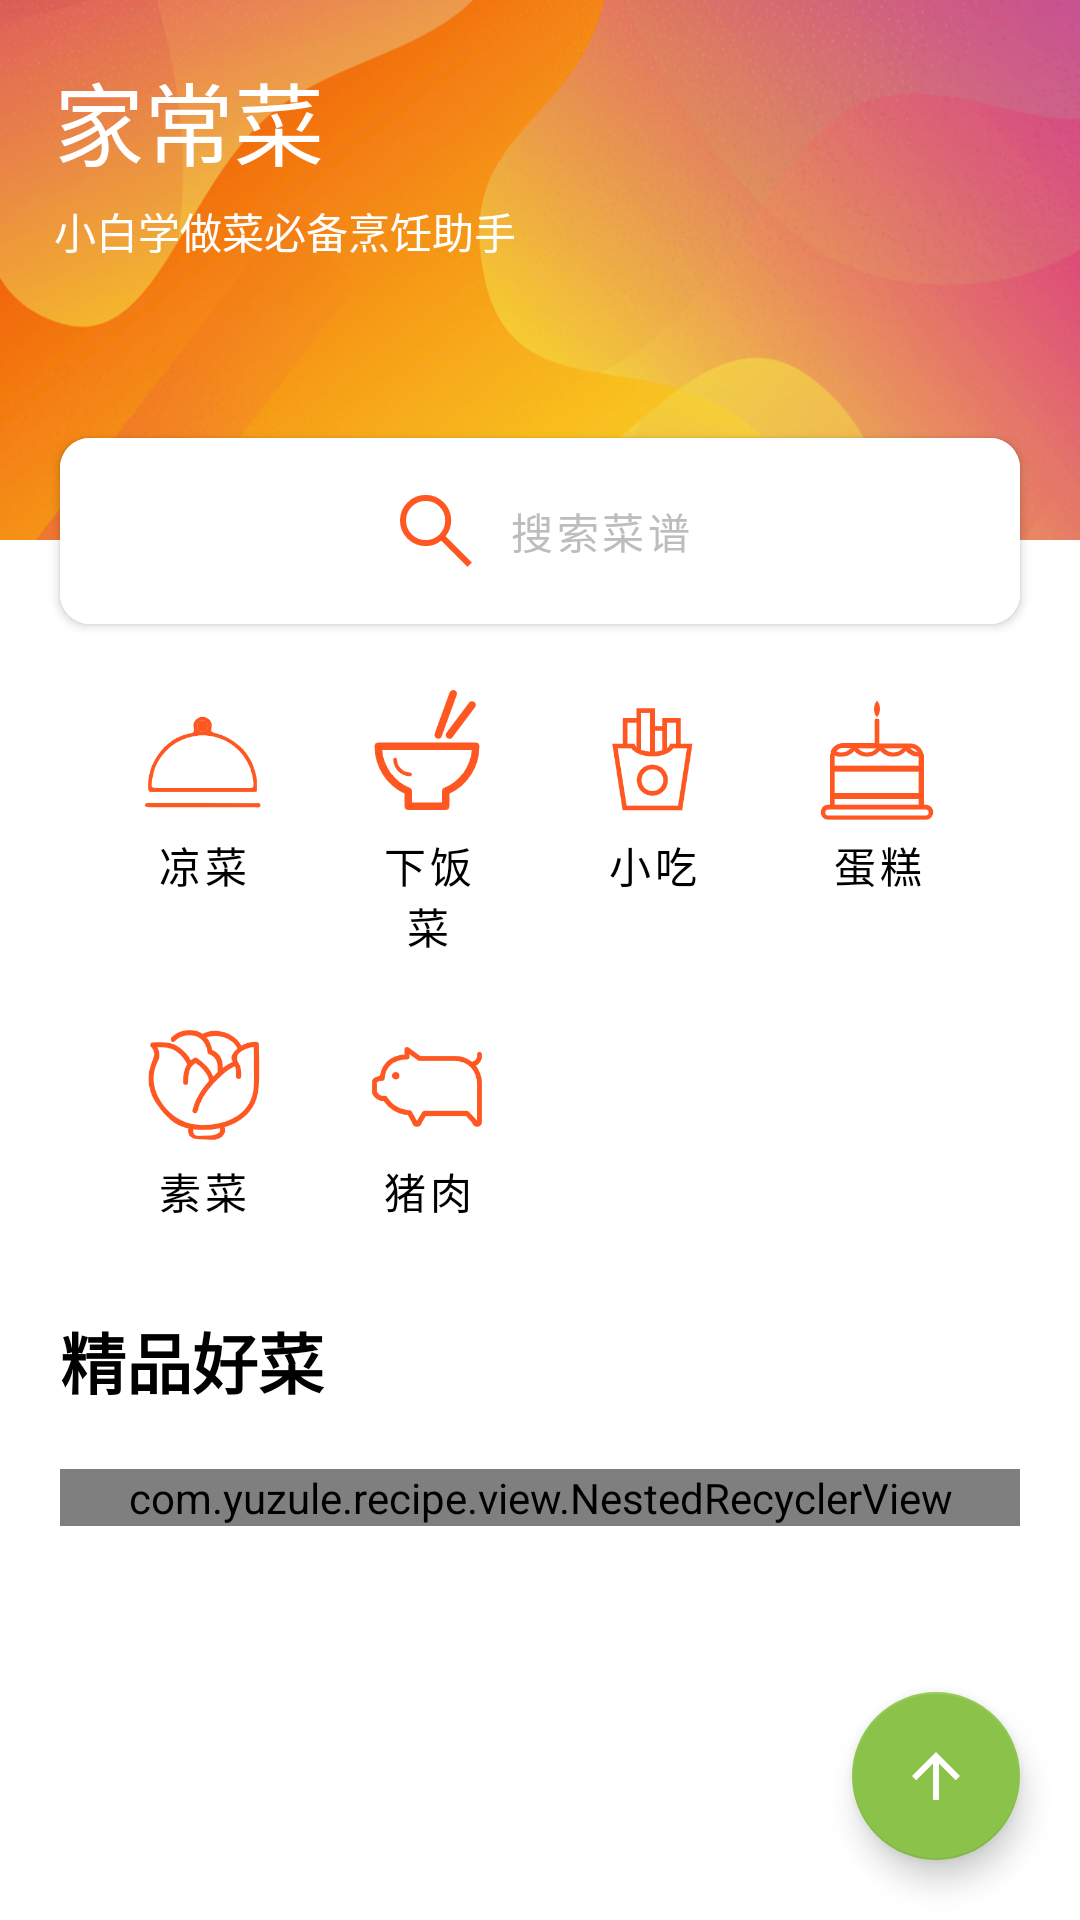

Where icons sit on this 1080 x 1920 app screen, as (x1, y1, x2, y2):
arrow top: (852, 1692, 1020, 1860)
